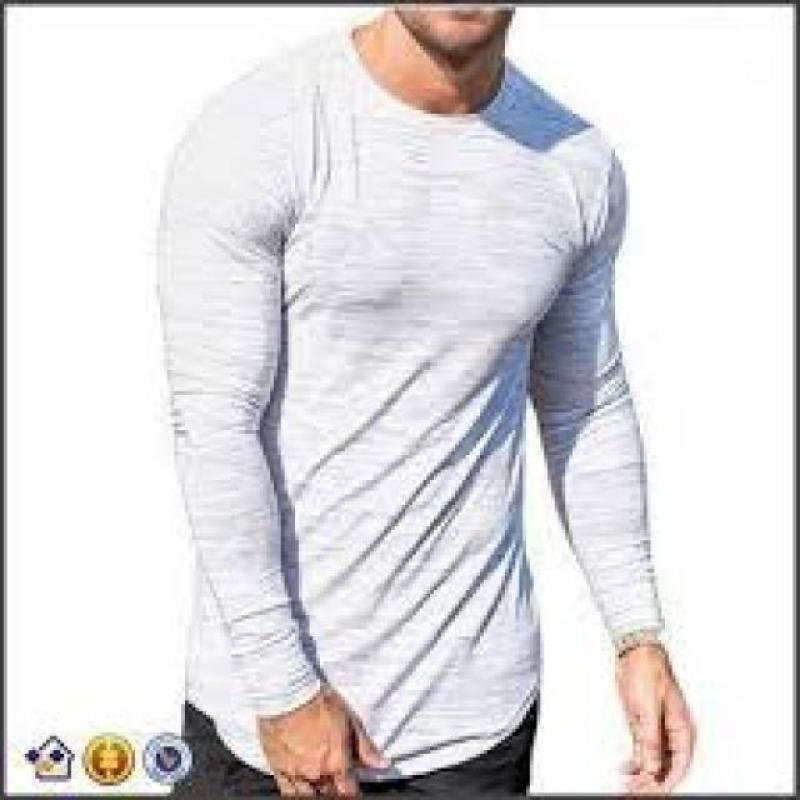long sleeve shirt: (153, 31, 666, 783)
